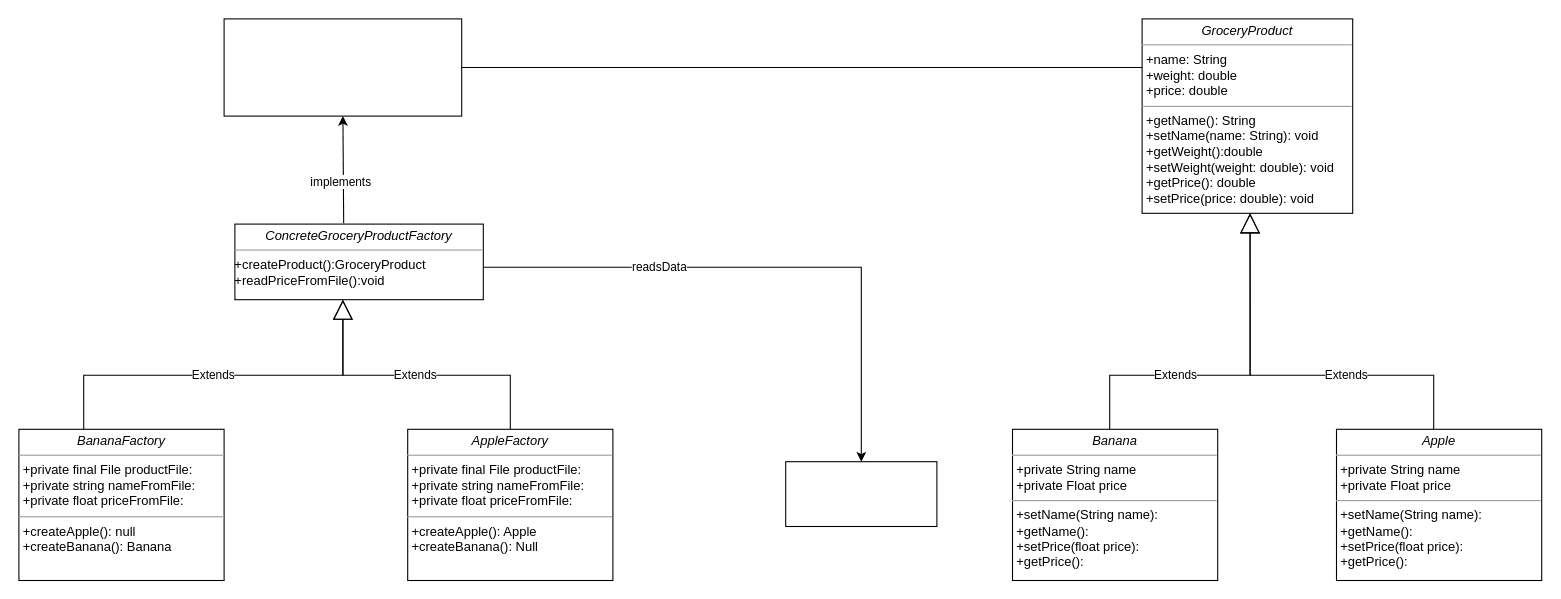
Image size: 1561x599. Some labels were removed from this diagram. The shapes that lost their labels are listed below. From the top down, each one's centre as x and y in pixels, then its label:
the point at 342,67: GroceryProductFactory <<interface>> + createProduct(): GroceryProduct
the point at 861,493: DataFileReader +readDataFile(): void
